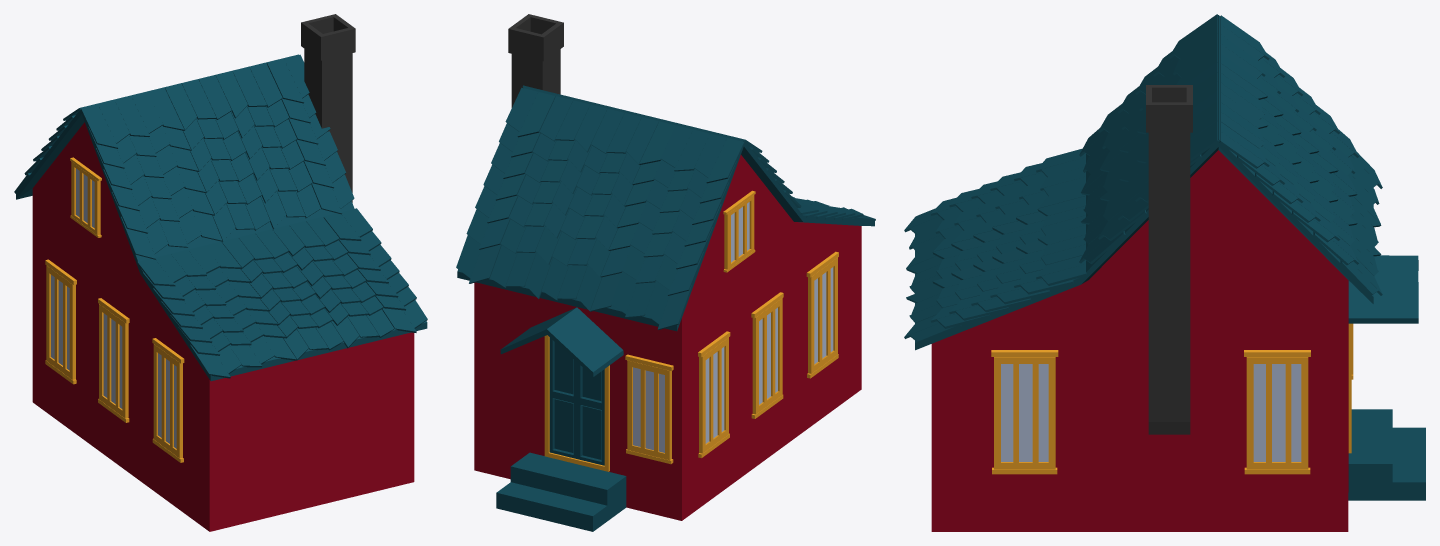
File: Мастерская.fbx
3 views of the same model, side by side, from view 1: azimuth 30°, elevation 25°; view 2: azimuth 150°, elevation 25°; view 3: azimuth 270°, elevation 25° (orthographic). The views are drawn at different scales.
Parts seen in each view (by area): view 1: Plane.014, Cube, Cube.002, Plane.004, Plane.002, Plane.003, Plane.005; view 2: Cube, Plane.014, Cube.001, Plane, Cube.002, Plane.001, Plane.003, Plane.002, Plane.004, Plane.005; view 3: Cube, Plane.014, Cube.002, Plane.007, Plane.006, Cube.001, Plane.001.
Boxes of the visible parts, bbox=[...] form: Plane.014: bbox=[14, 54, 427, 378]; Cube: bbox=[16, 55, 427, 531]; Cube.002: bbox=[301, 14, 355, 202]; Plane.004: bbox=[152, 338, 184, 462]; Plane.002: bbox=[45, 259, 76, 384]; Plane.003: bbox=[98, 298, 129, 422]; Plane.005: bbox=[70, 157, 101, 237]; Cube: bbox=[457, 86, 874, 520]; Plane.014: bbox=[456, 85, 875, 329]; Cube.001: bbox=[496, 452, 626, 531]; Plane: bbox=[625, 354, 673, 464]; Cube.002: bbox=[508, 14, 563, 107]; Plane.001: bbox=[500, 307, 623, 376]; Plane.003: bbox=[751, 292, 783, 418]; Plane.002: bbox=[698, 331, 730, 458]; Plane.004: bbox=[806, 251, 838, 378]; Plane.005: bbox=[723, 190, 755, 272]; Cube: bbox=[915, 15, 1373, 531]; Plane.014: bbox=[904, 14, 1382, 343]; Cube.002: bbox=[1146, 85, 1192, 434]; Plane.007: bbox=[1244, 350, 1310, 474]; Plane.006: bbox=[991, 350, 1058, 474]; Cube.001: bbox=[1348, 409, 1425, 500]; Plane.001: bbox=[1348, 255, 1418, 323].
Size of the model in its own units: 956 by 1416 by 1502.
